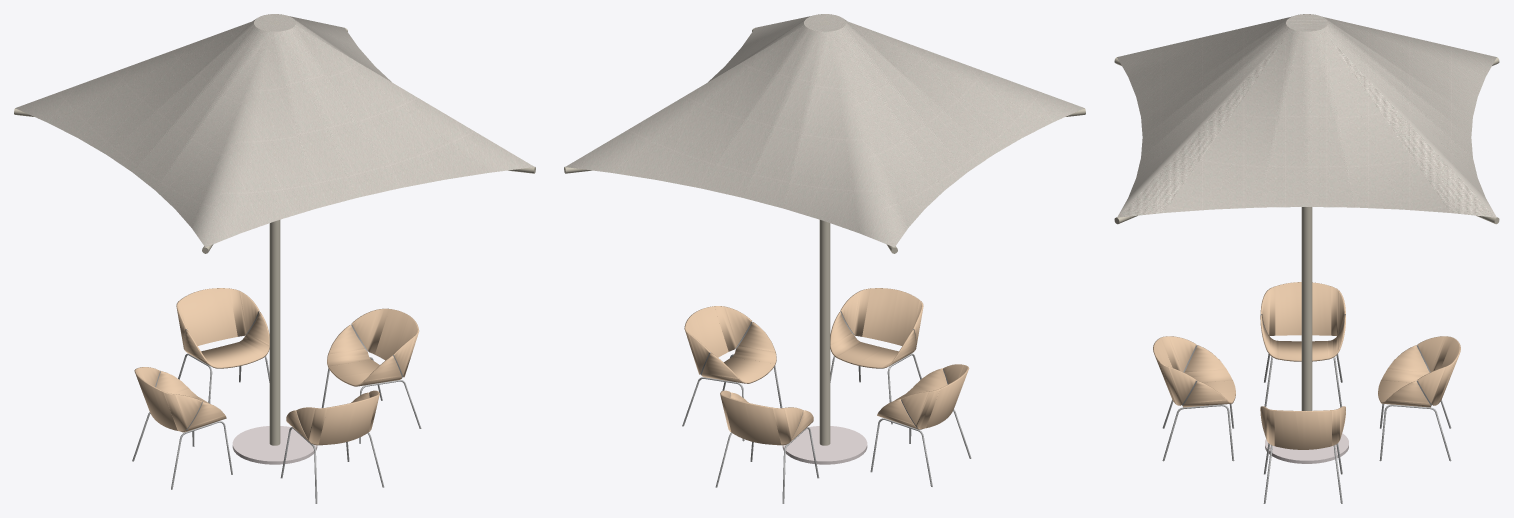
Rendered from UMBRELLA 7.glb.
3 renders of one model, left to right at view 1: azimuth 30°, elevation 25°; view 2: azimuth 150°, elevation 25°; view 3: azimuth 270°, elevation 25°, orthographic.
Parts seen in each view (by area): view 1: CANOPY, BACKREST, POLES, LEGS; view 2: CANOPY, BACKREST, POLES, LEGS; view 3: CANOPY, BACKREST, POLES, LEGS.
Part boxes in pixels (x1,y1,x2,y2): CANOPY: (15,14,534,247); BACKREST: (134,288,419,445); POLES: (14,21,535,464); LEGS: (132,353,421,503); CANOPY: (565,14,1084,247); BACKREST: (684,288,969,445); POLES: (564,20,1085,464); LEGS: (682,353,971,503); CANOPY: (1117,14,1496,217); BACKREST: (1153,282,1460,449); POLES: (1114,21,1499,463); LEGS: (1162,354,1451,503).
Bounding box in the file's own units: 2.79 × 3.38 × 2.79.
Materials: 8 (4 with a texture image).
